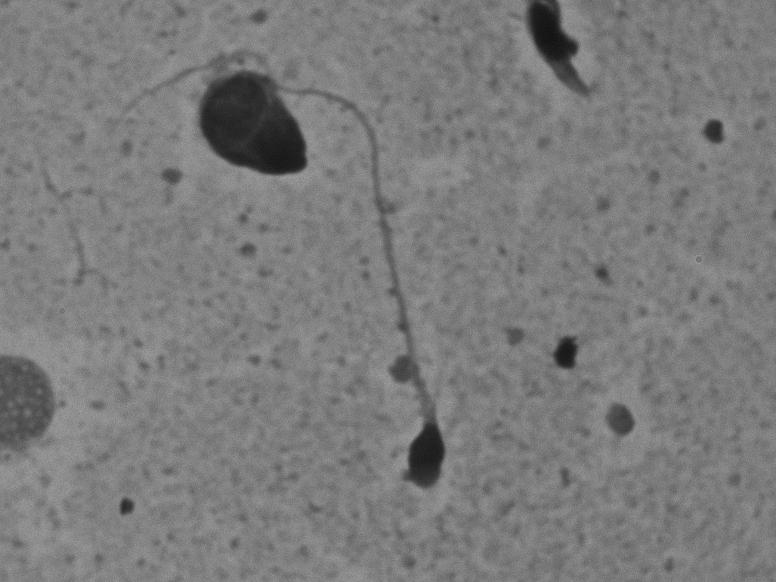Abnormal: (101, 34, 484, 496)
